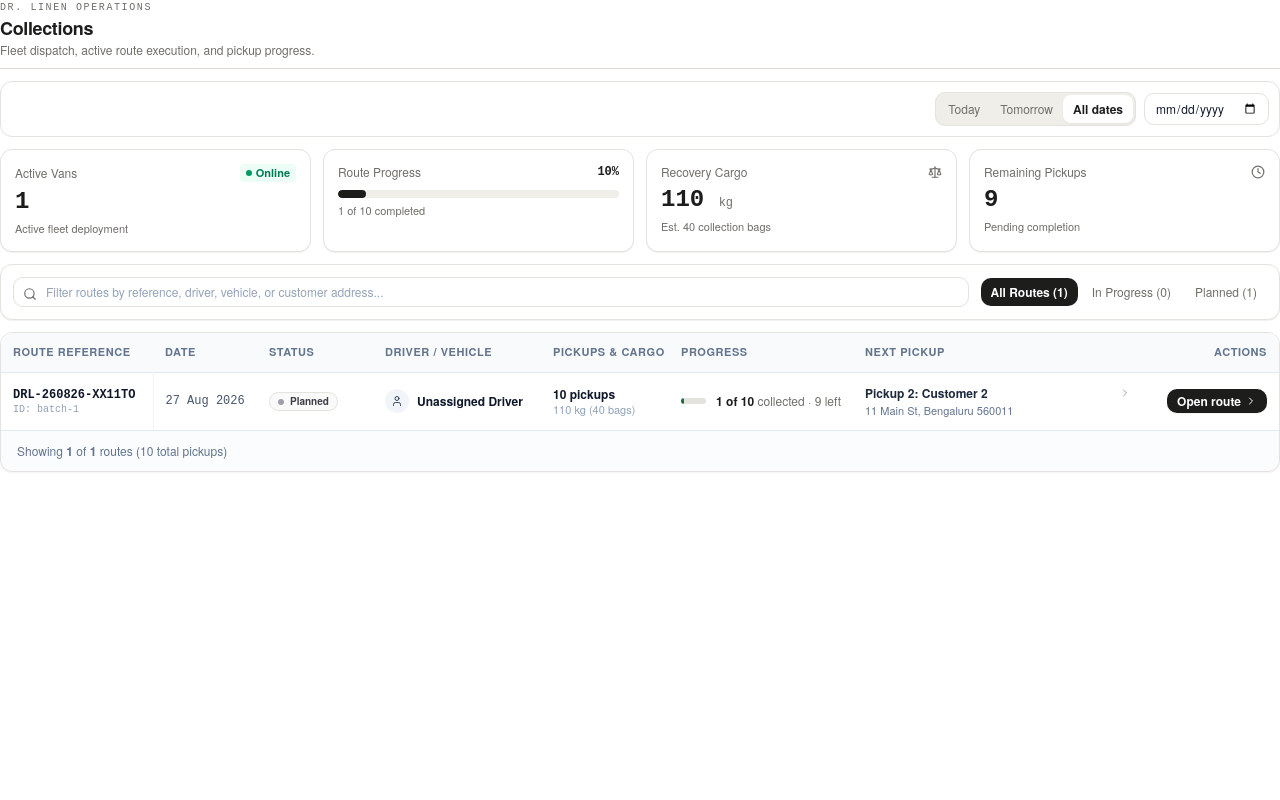
Test: TextileDispatchPage › renders a 10-stop route smoothly with Next Stop callout and stop links
This screenshot has width=1280, height=800.
Note: Click route row to open drawer
Click the text "DRL-260826-XX11TO" at (77, 395), box [13,387,140,403]
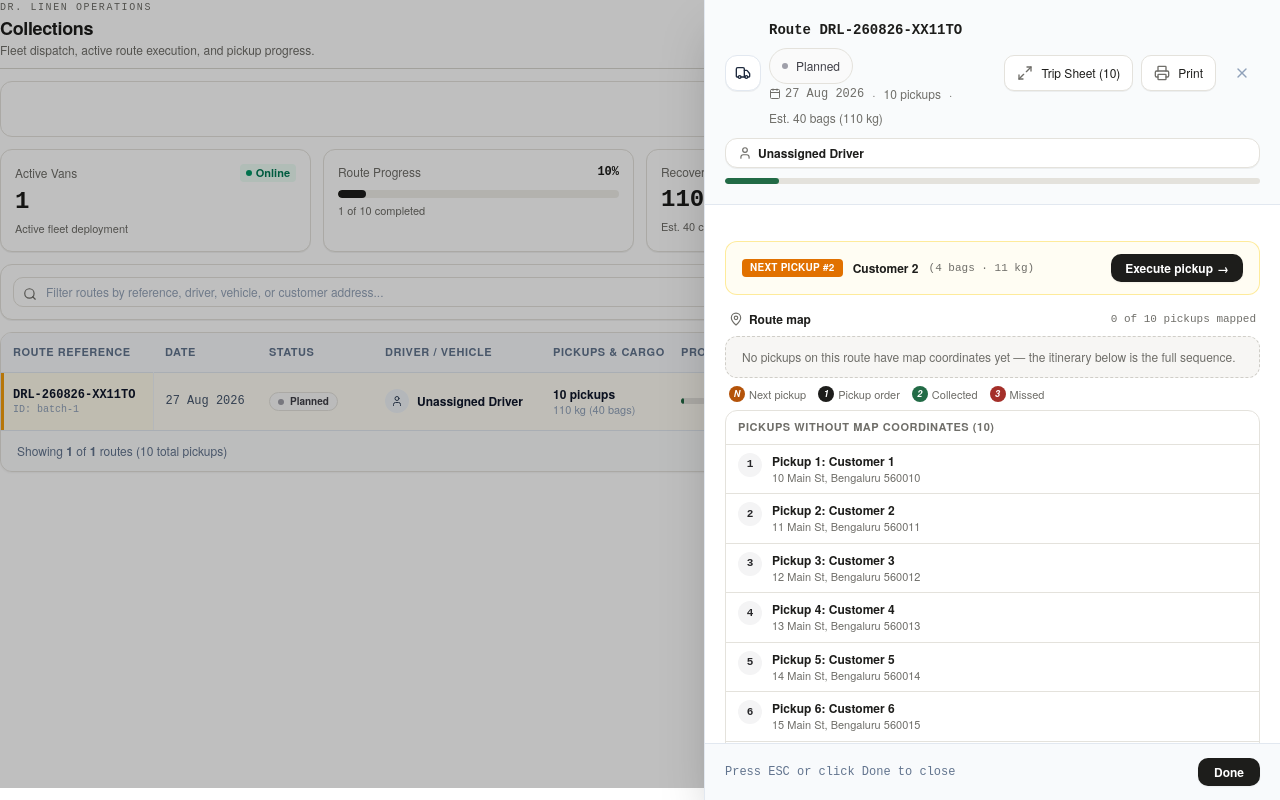
Expected: the text "Next Pickup #2" is shown, [742,259,843,277]
